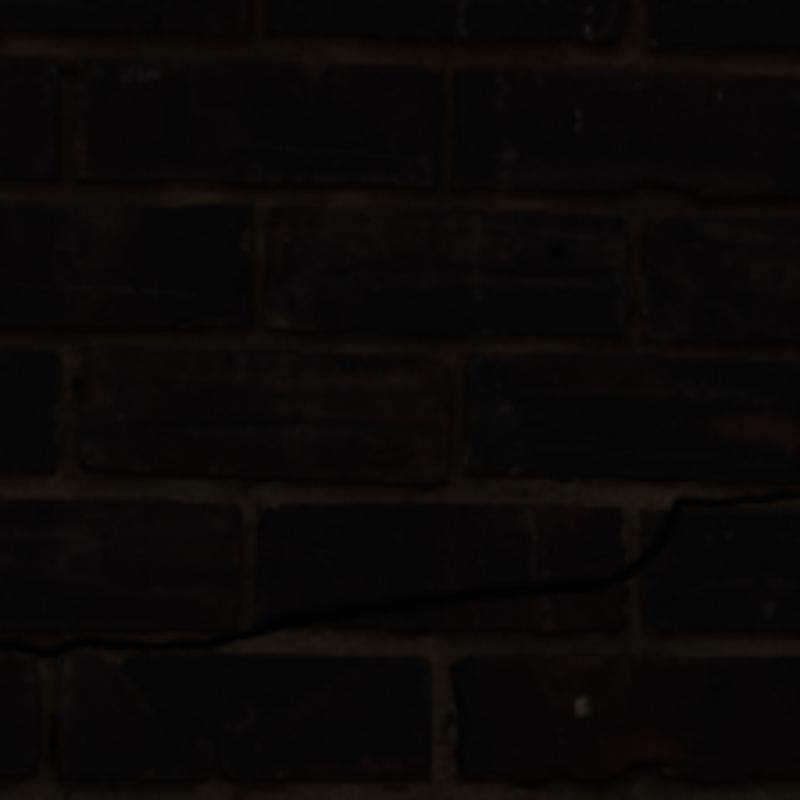pothole: (0, 493, 796, 654)
